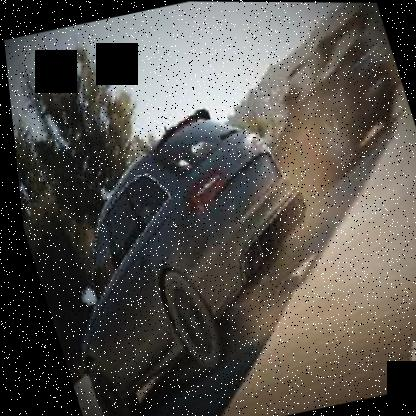not_emergency: (7, 88, 367, 415), (223, 1, 415, 190)
